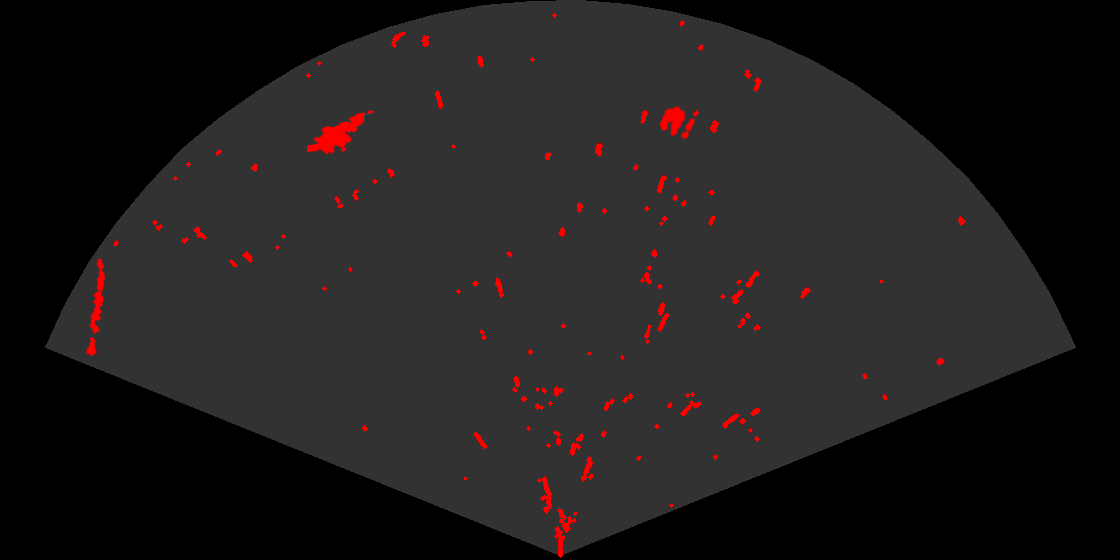ball: (658, 104, 697, 141)
chain: (85, 257, 107, 359)
frogman: (307, 109, 376, 156)
